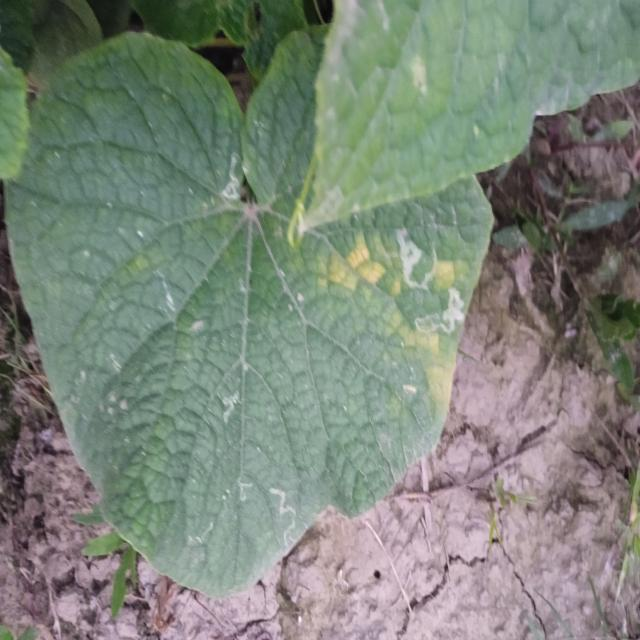cucumber_downy: (298, 223, 499, 432)
